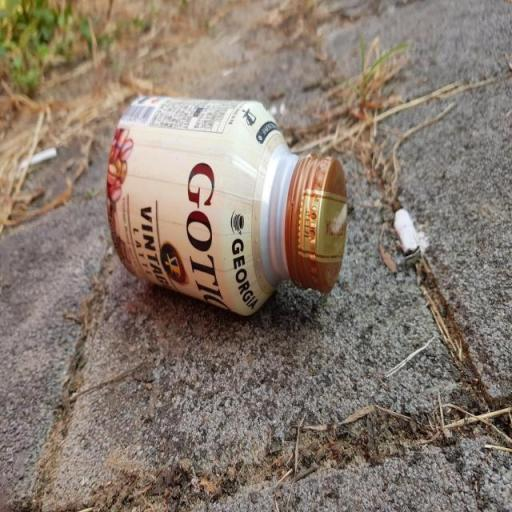metal: (75, 54, 371, 388)
